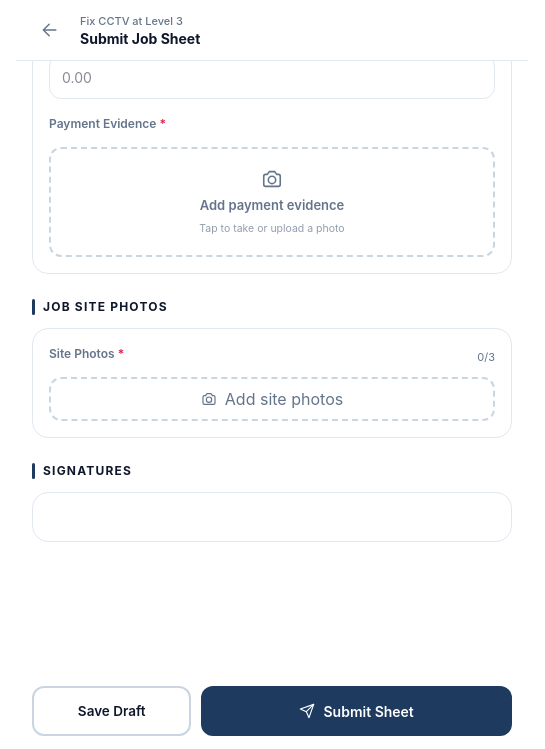
Test case: SubmitJobSheetPage — job sheet form › shows validation error when submitting with empty work performed
(page scrolled)
Click the button "Submit Sheet": [357, 711] box [201,686,512,736]
(page scrolled)
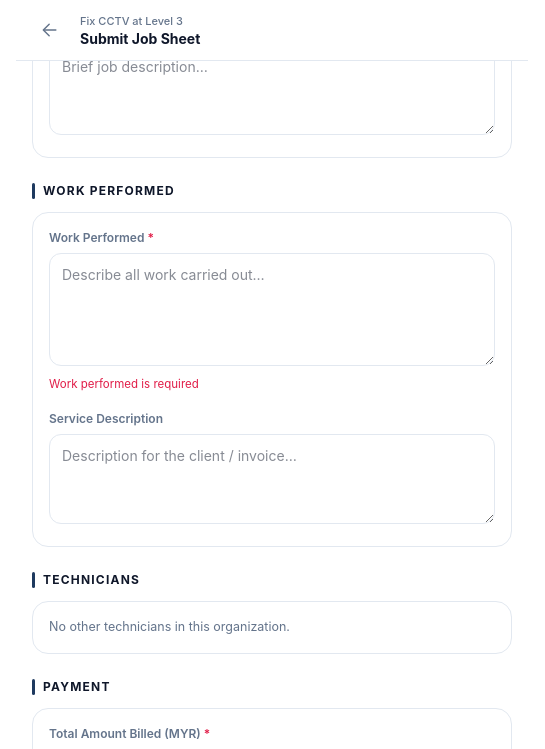
Check: the text "Work performed is required" is shown, box [49,377,199,391]
